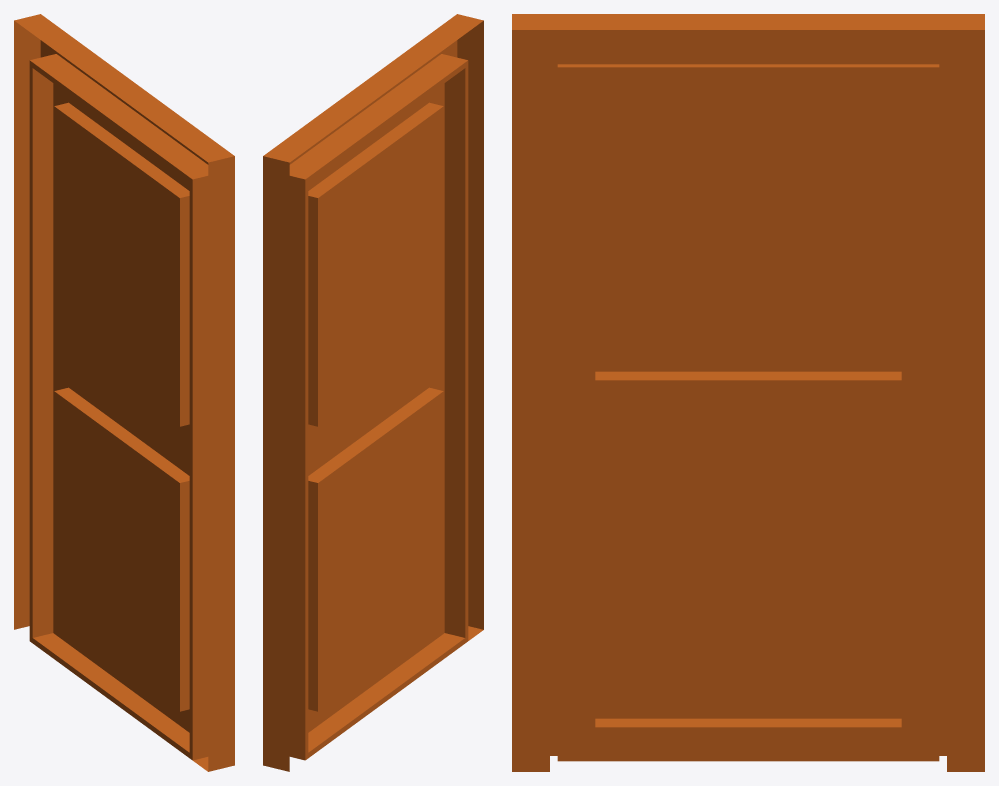
The model's file is P_Door_01.dae.
3 renders of one model, left to right at view 1: azimuth 30°, elevation 25°; view 2: azimuth 150°, elevation 25°; view 3: azimuth 270°, elevation 25°, orthographic. The views are drawn at different scales.
Parts seen in each view (by area): view 1: Door_01; view 2: Door_01; view 3: Door_01.
Boxes of the visible parts, x1,y1,x2,y2 form: Door_01: (14,14,234,771); Door_01: (263,14,483,771); Door_01: (512,14,984,771).
Size of the model in its own units: 0.1099 by 1.39 by 2.4.
